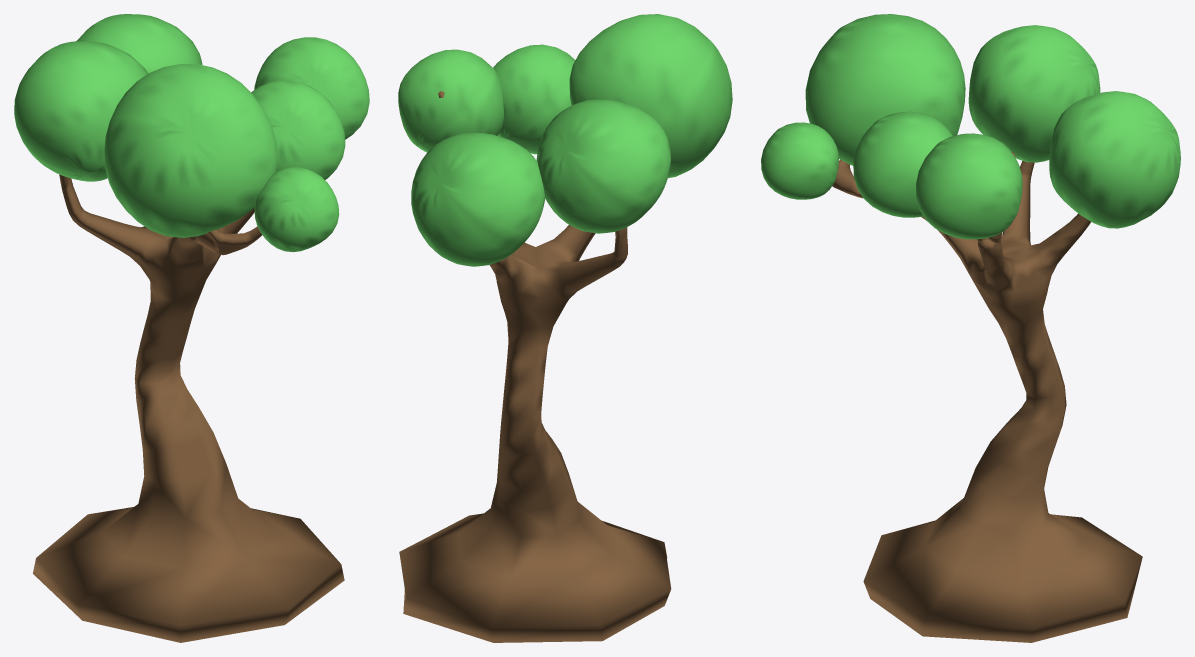
The model's file is testando2.fbx.
The picture shows the model from 3 angles, left to right: view 1: azimuth 30°, elevation 25°; view 2: azimuth 150°, elevation 25°; view 3: azimuth 270°, elevation 25°; orthographic projection. The views are drawn at different scales.
Parts seen in each view (by area): view 1: tronco, bola5, bola2, bola4, bola6, bola3, bola; view 2: tronco, bola5, bola, bola2, bola6, bola4; view 3: tronco, bola5, bola, bola2, bola6, bola4, bola3.
Part boxes in pixels (x1,y1,x2,y2): tronco: [33, 174, 344, 642]; bola5: [104, 64, 277, 237]; bola2: [14, 41, 148, 181]; bola4: [251, 80, 345, 179]; bola6: [254, 37, 369, 139]; bola3: [254, 167, 339, 252]; bola: [76, 14, 202, 73]; tronco: [399, 91, 671, 642]; bola5: [569, 14, 732, 177]; bola: [411, 132, 545, 266]; bola2: [536, 99, 670, 233]; bola6: [398, 49, 503, 152]; bola4: [493, 44, 575, 154]; tronco: [832, 152, 1142, 642]; bola5: [805, 14, 965, 165]; bola: [1049, 91, 1180, 228]; bola2: [968, 25, 1100, 162]; bola6: [916, 133, 1022, 239]; bola4: [853, 111, 952, 217]; bola3: [761, 122, 838, 199].
Size of the model in its own units: 1039 by 1889 by 1321.
